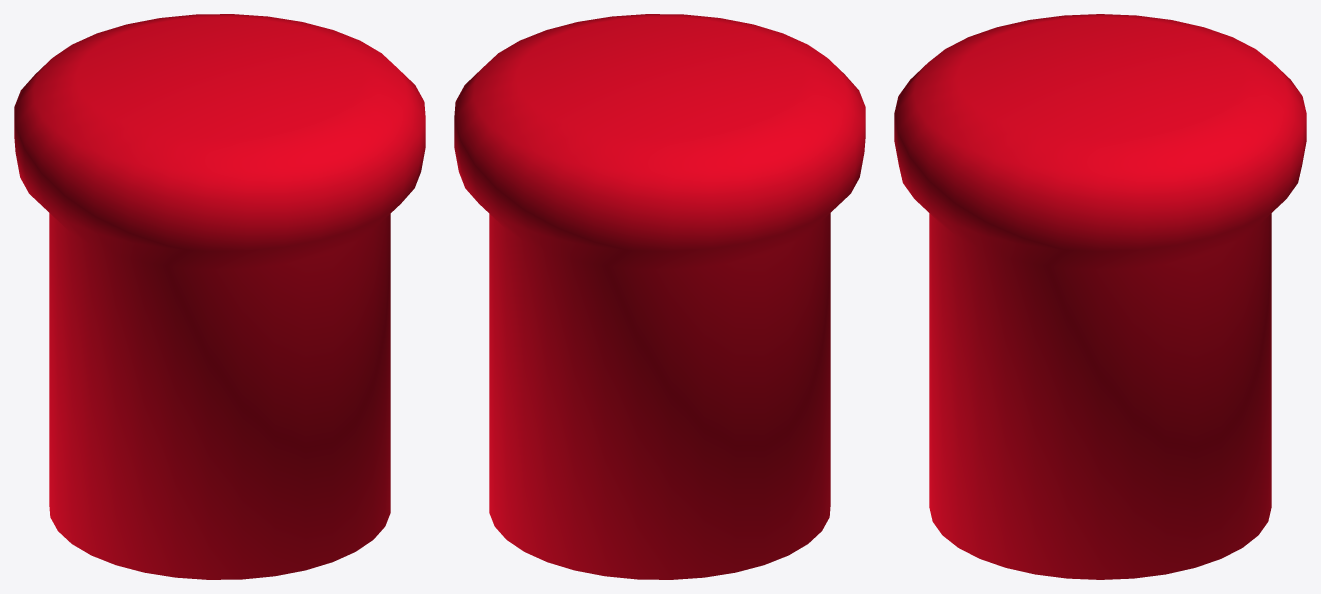
Rendered from PLungers.fbx.
3 views of the same model, side by side, from view 1: azimuth 30°, elevation 25°; view 2: azimuth 150°, elevation 25°; view 3: azimuth 270°, elevation 25° (orthographic).
Parts seen in each view (by area): view 1: Cylinder; view 2: Cylinder; view 3: Cylinder.
Part boxes in pixels (x1,y1,x2,y2): Cylinder: (14,14,425,579); Cylinder: (454,14,865,579); Cylinder: (894,14,1306,579).
Size of the model in its own units: 241 by 277 by 241.
